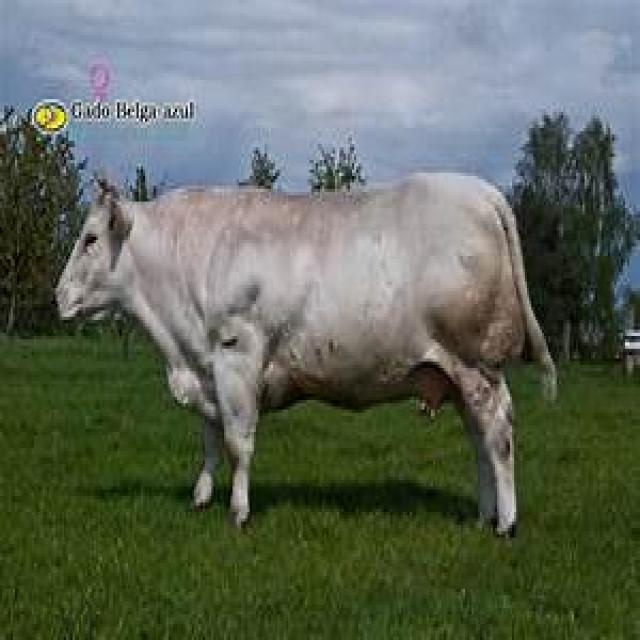cow: (55, 173, 559, 541)
